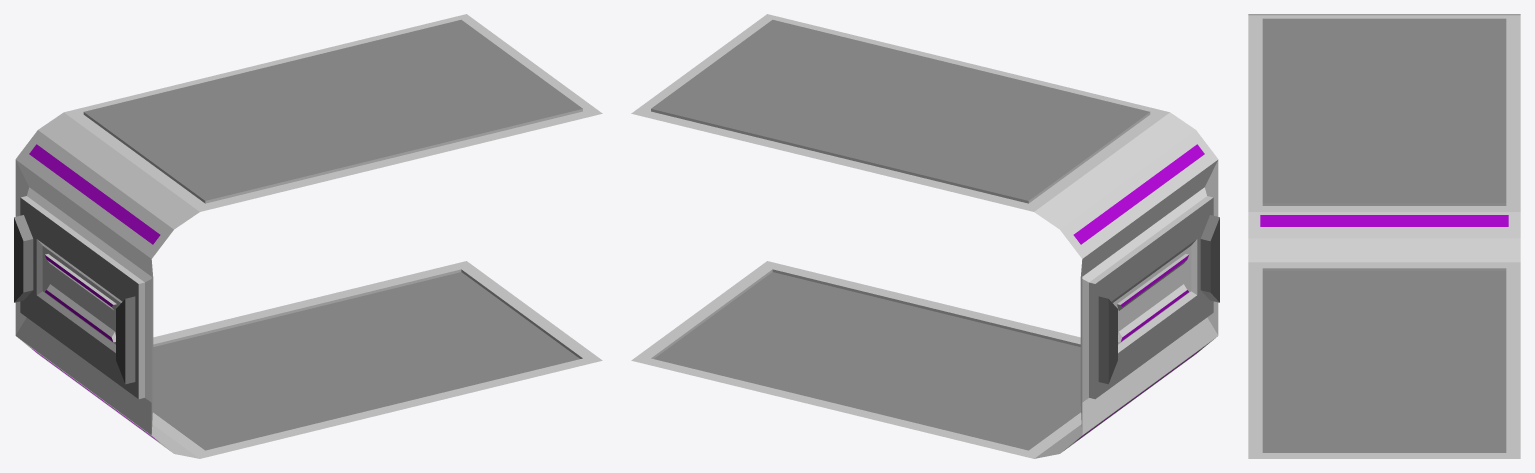
The model's file is Scene_background_0.fbx.
3 views of the same model, side by side, from view 1: azimuth 30°, elevation 25°; view 2: azimuth 150°, elevation 25°; view 3: azimuth 270°, elevation 25° (orthographic).
Parts seen in each view (by area): view 1: Hull; view 2: Hull; view 3: Hull.
Boxes of the visible parts, x1=… form: Hull: x1=14, y1=14, x2=602, y2=458; Hull: x1=631, y1=14, x2=1219, y2=458; Hull: x1=1248, y1=14, x2=1520, y2=458.
Bounding box in the file's own units: 197 × 102 × 100.
